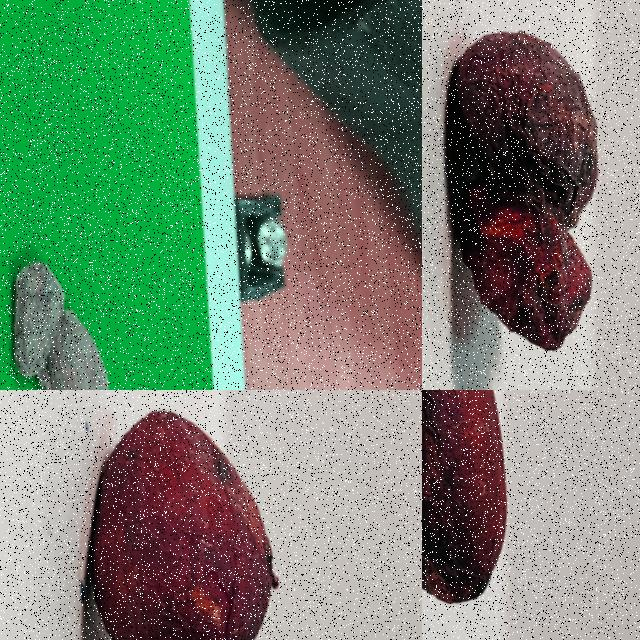Agglomerated_cocoabeans: (422, 0, 639, 389), (18, 390, 338, 639), (0, 181, 150, 389)
Fine_cocoabeans: (422, 390, 583, 639)
